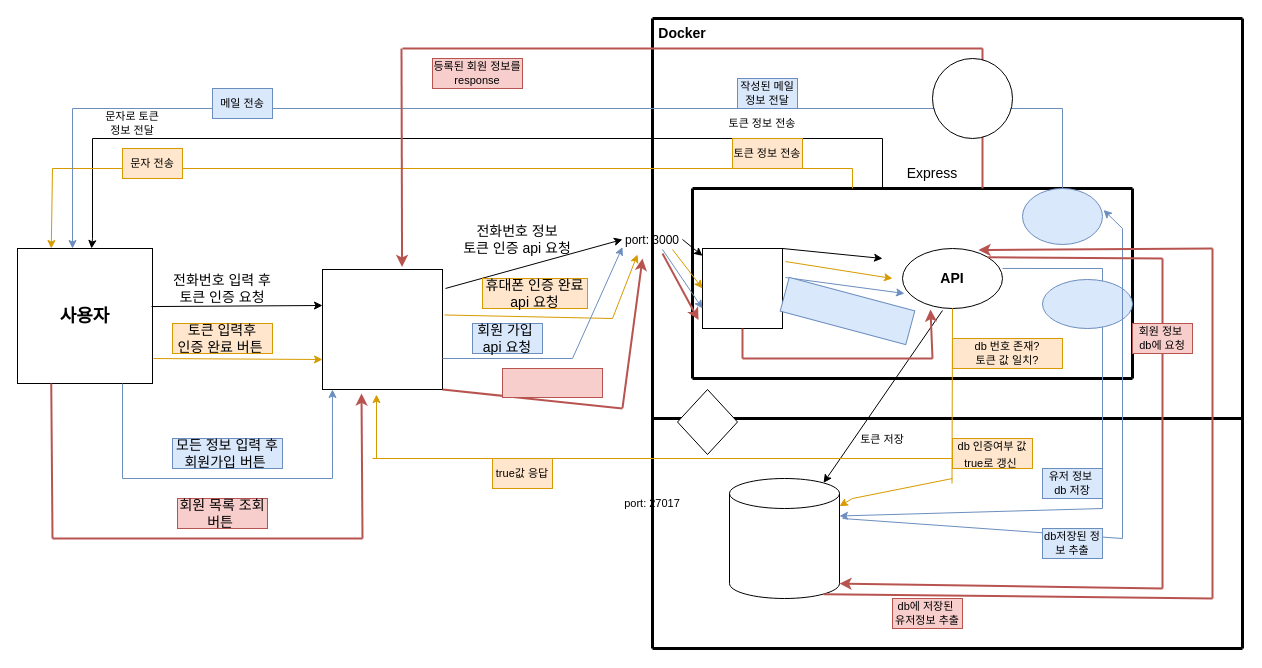
The diagram is 1262 pixels wide and 668 high, and some of its shapes have lost their labels. The centre of each missing label's shape, as x and y in pixels:
"backend port: 3000" belongs at (x=742, y=288).
"DB port: 27017" belongs at (x=784, y=538).
"db 전화번호 존재? 인증여부 O" belongs at (x=1087, y=303).
"메일 작성" belongs at (x=1062, y=216).
"유저 정보의 주민번호 암호화 -> og 객체 생성 -> 추가" belongs at (x=847, y=310).
"포트포워딩" belongs at (x=707, y=421).
"회원 가입 화면 프론트 엔드" belongs at (x=382, y=329).
"회원 목록 조회 api 요청" belongs at (x=552, y=383).
